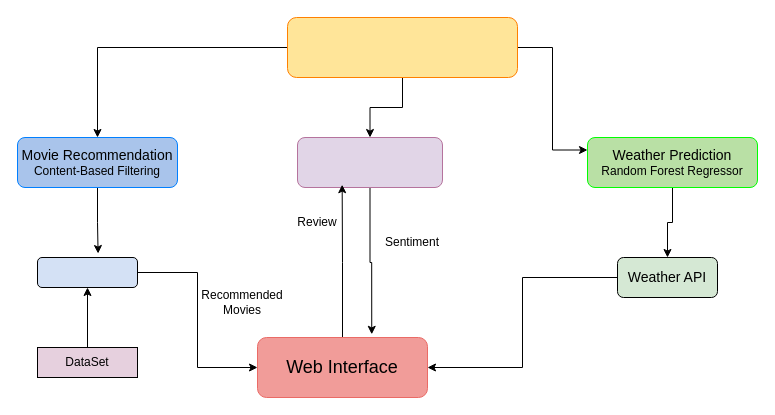
The diagram is 775 pixels wide and 415 high, and some of its shapes have lost their labels. Each missing label, with the centre of its shape:
"Description" belongs at (x=87, y=272).
"Movie Magic Platform" belongs at (x=402, y=47).
"Sentiment Analysis VADER" belongs at (x=369, y=162).
